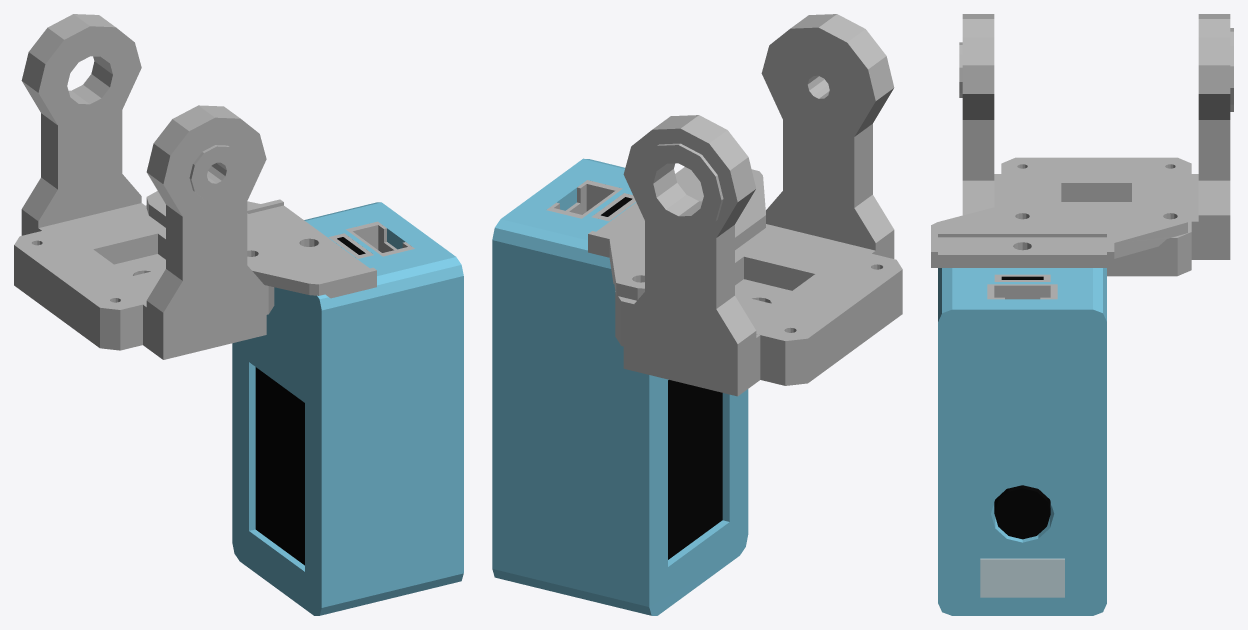
Rendered from head-reye-y_mesh.glb.
The picture shows the model from 3 angles, left to right: view 1: azimuth 30°, elevation 25°; view 2: azimuth 150°, elevation 25°; view 3: azimuth 270°, elevation 25°; orthographic projection. The views are drawn at different scales.
Visible parts, largest first — view 1: base2_M1KShape4, base2_M1KShape1, base2_M1KShape2, base2_M1KShape0, base2_M1KShape3, base2_M1KShape5, base2_M1KShape8; view 2: base2_M1KShape4, base2_M1KShape2, base2_M1KShape1, base2_M1KShape0, base2_M1KShape5, base2_M1KShape3, base2_M1KShape8; view 3: base2_M1KShape4, base2_M1KShape3, base2_M1KShape0, base2_M1KShape2, base2_M1KShape1, base2_M1KShape7, base2_M1KShape6, base2_M1KShape8.
Part boxes in pixels (<box>): base2_M1KShape4: <box>232,202,463,615</box>; base2_M1KShape1: <box>143,105,266,359</box>; base2_M1KShape2: <box>21,14,144,235</box>; base2_M1KShape0: <box>14,205,274,350</box>; base2_M1KShape3: <box>146,191,376,298</box>; base2_M1KShape5: <box>255,367,304,565</box>; base2_M1KShape8: <box>346,221,414,256</box>; base2_M1KShape4: <box>492,158,748,615</box>; base2_M1KShape2: <box>623,115,760,396</box>; base2_M1KShape1: <box>761,14,894,258</box>; base2_M1KShape0: <box>615,228,902,385</box>; base2_M1KShape5: <box>668,380,722,559</box>; base2_M1KShape3: <box>588,167,765,300</box>; base2_M1KShape8: <box>546,180,622,218</box>; base2_M1KShape4: <box>938,268,1106,615</box>; base2_M1KShape3: <box>931,204,1187,267</box>; base2_M1KShape0: <box>1001,157,1191,276</box>; base2_M1KShape2: <box>1191,14,1233,259</box>; base2_M1KShape1: <box>959,14,1001,215</box>; base2_M1KShape7: <box>980,558,1064,597</box>; base2_M1KShape6: <box>994,485,1050,539</box>; base2_M1KShape8: <box>987,284,1057,299</box>.
Size of the model in its own units: 0.0502 by 0.0765 by 0.043.
